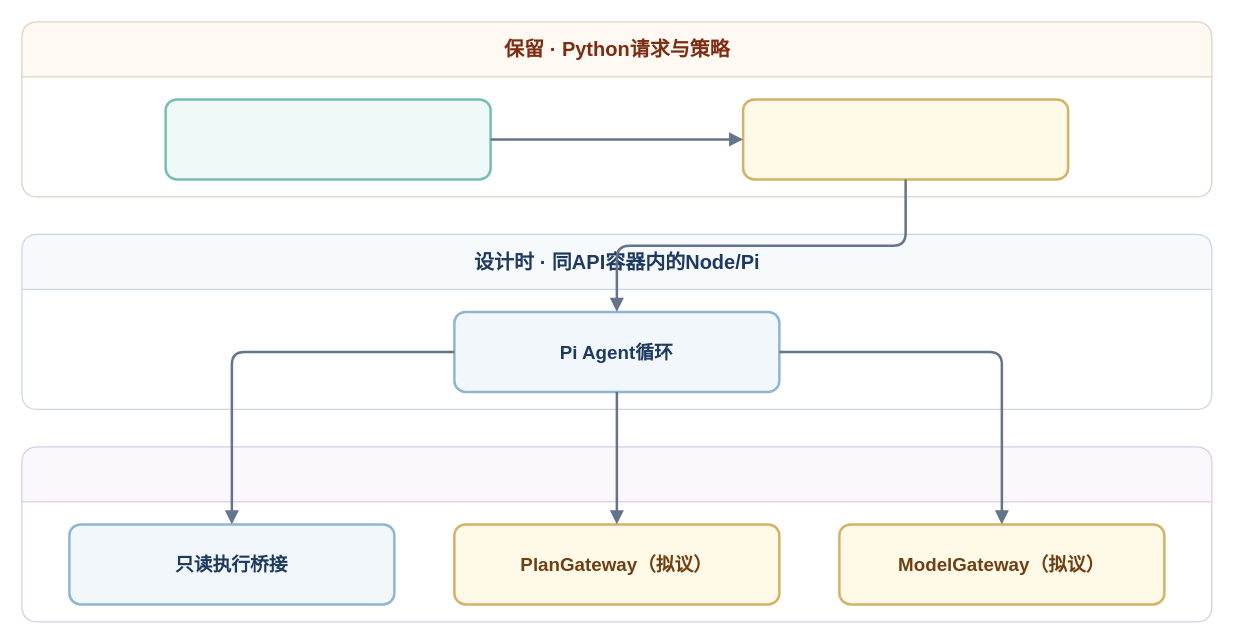
This 1234x644 diagram has some shape labels left out. Each missing label, with the box of its shape:
EngineAdapter（拟议）: (741, 98, 1069, 180)
Python · 业务: (21, 446, 1212, 622)
现有对话API: (164, 98, 491, 180)
